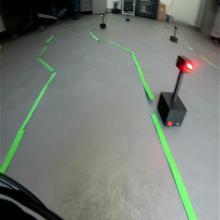red: (174, 54, 194, 74)
